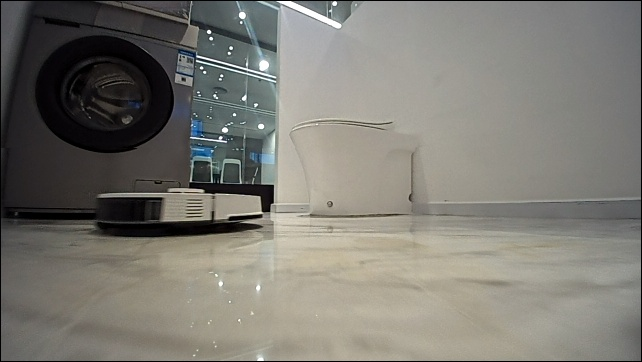toilet: (287, 116, 418, 217)
washing_machine: (0, 0, 200, 219)
